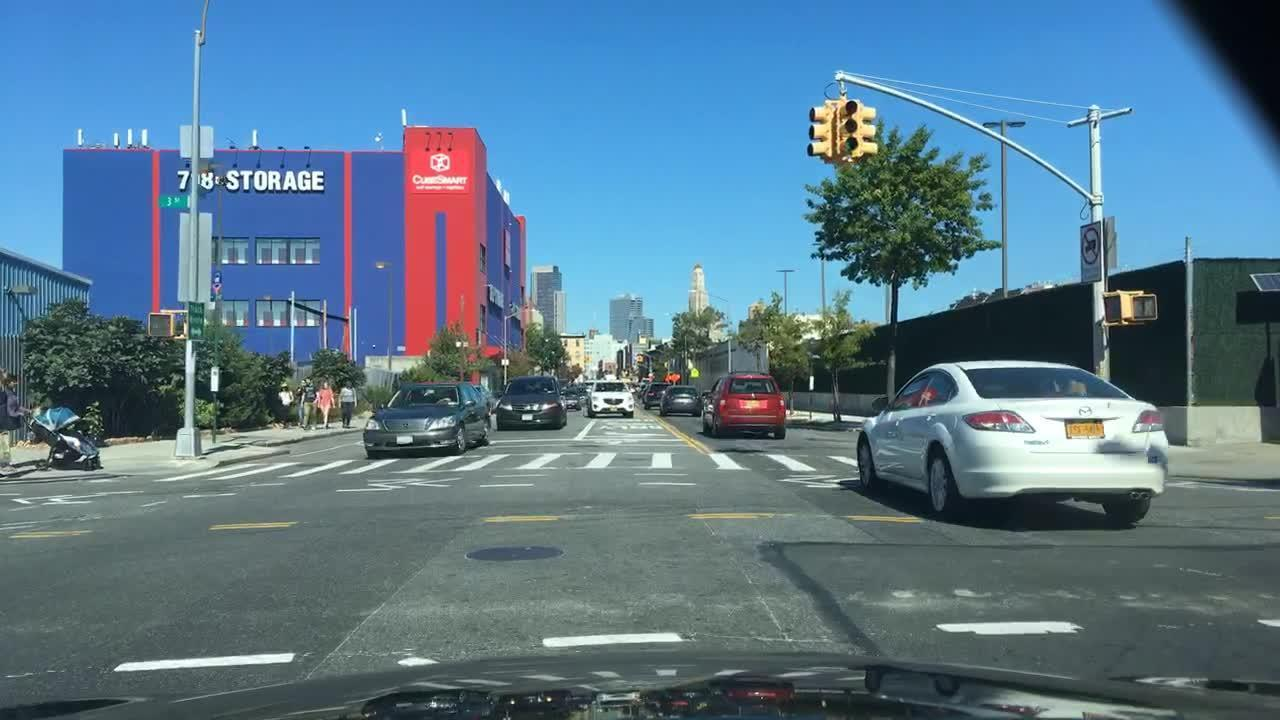Mazda: (1076, 403, 1095, 422)
